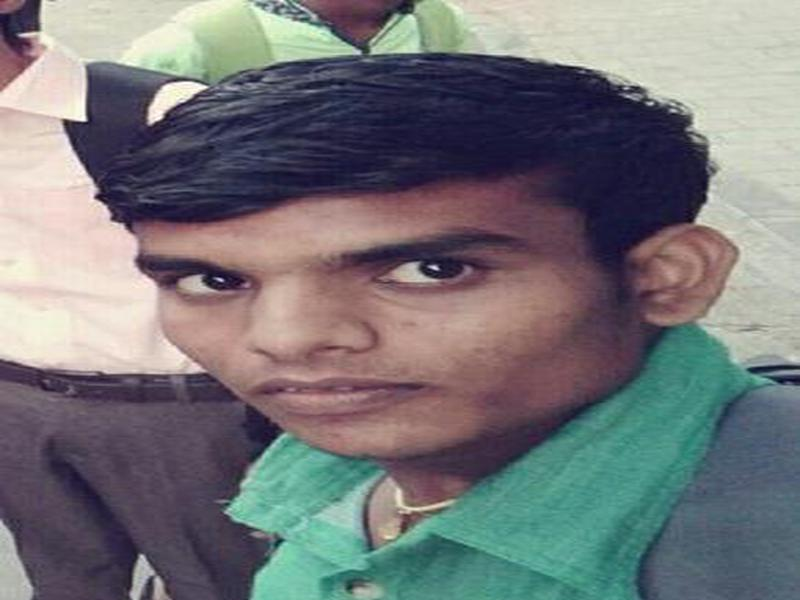without_mask: (121, 180, 621, 470)
